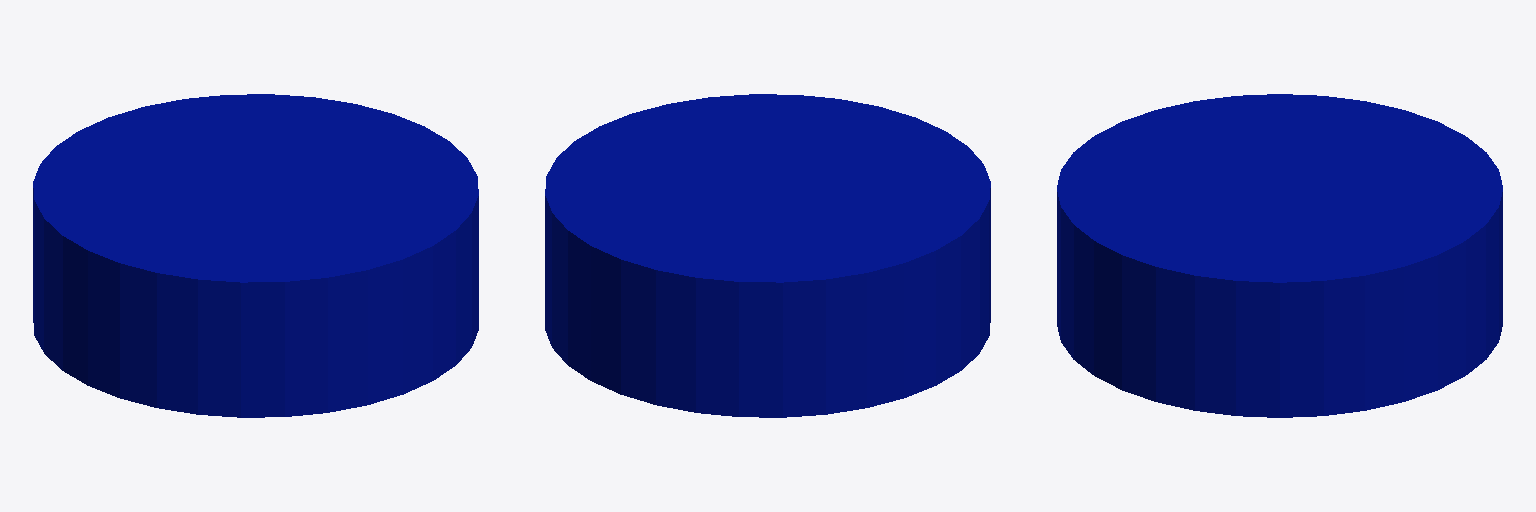
Rendered from dot.obj.
The picture shows the model from 3 angles: view 1: azimuth 30°, elevation 25°; view 2: azimuth 150°, elevation 25°; view 3: azimuth 270°, elevation 25°; orthographic projection.
Parts seen in each view (by area): view 1: Cylinder; view 2: Cylinder; view 3: Cylinder.
Boxes of the visible parts, x1=… form: Cylinder: x1=33, y1=94, x2=478, y2=417; Cylinder: x1=545, y1=94, x2=990, y2=417; Cylinder: x1=1057, y1=94, x2=1502, y2=417.
Size of the model in its own units: 41.06 by 13.71 by 41.06.